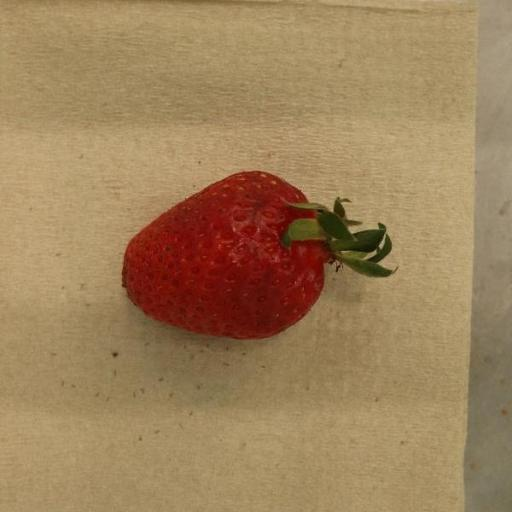Strawberry: (121, 171, 385, 340)
